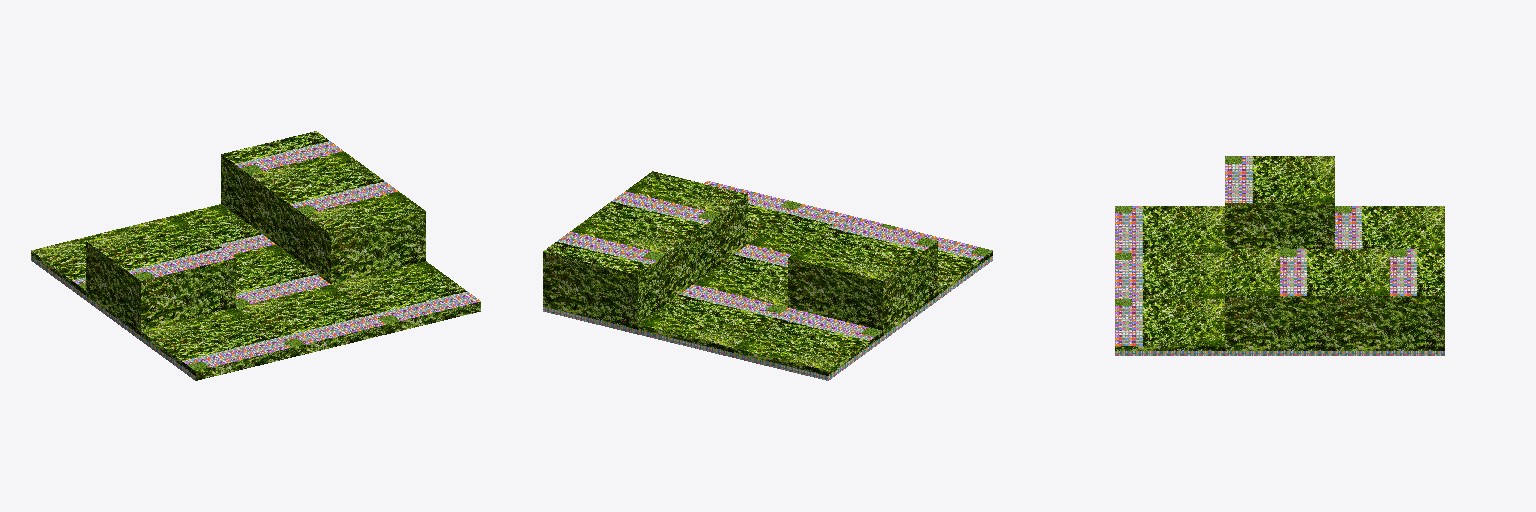
3 renders of one model, left to right at view 1: azimuth 30°, elevation 25°; view 2: azimuth 150°, elevation 25°; view 3: azimuth 270°, elevation 25°, orthographic.
Visible parts, largest first — view 1: cube1; view 2: cube1; view 3: cube1.
Part boxes in pixels (left/top/right/bottom): cube1: left=31, top=131, right=480, bottom=380; cube1: left=543, top=171, right=992, bottom=380; cube1: left=1115, top=156, right=1444, bottom=355.
Bounding box in the file's own units: 3 × 0.6 × 3.
1 materials, 1 textured.